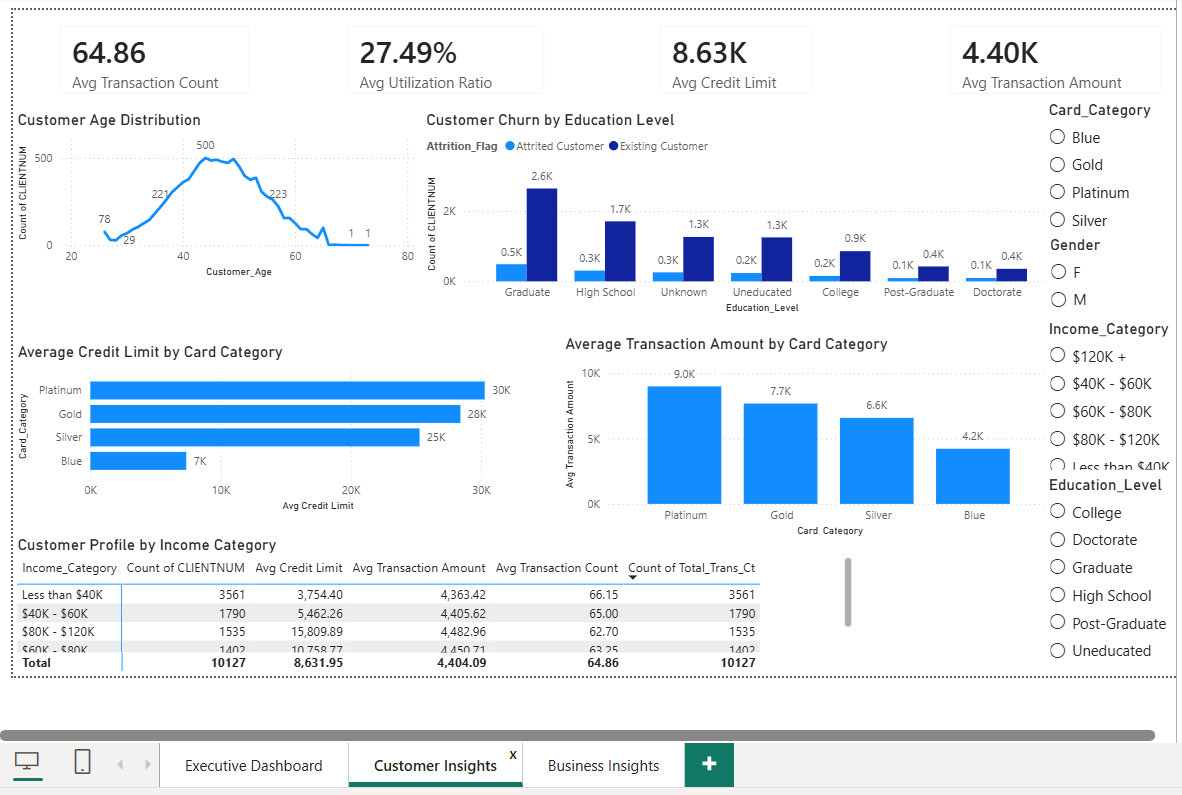

Layout of this report page (visuals, bound fields, positions):
{"tool":"powerbi","page":{"name":"Customer Insights ","canvas":[1280,720],"ordinal":1},"visuals":[{"type":"cardVisual","fields":{"Data":["credit_card_churn bankchurners.Avg Utilization Ratio"]},"box":[344.3,0,247.2,108.7],"z":0},{"type":"cardVisual","fields":{"Data":["credit_card_churn bankchurners.Avg Transaction Count"]},"box":[33.7,0,239.5,108.7],"z":1000},{"type":"cardVisual","fields":{"Data":["credit_card_churn bankchurners.Avg Transaction Amount"]},"box":[995.5,0,262.8,108.7],"z":2000},{"type":"cardVisual","fields":{"Data":["credit_card_churn bankchurners.Avg Credit Limit"]},"box":[682.2,0,199.4,108.7],"z":3000},{"type":"lineChart","title":"Customer Age Distribution","fields":{"Category":["credit_card_churn bankchurners.Customer_Age"],"Y":["CountNonNull(credit_card_churn bankchurners.CLIENTNUM)"]},"box":[0,108.7,441.4,186.4],"z":4000},{"type":"clusteredColumnChart","title":"Customer Churn by Education Level","fields":{"Category":["credit_card_churn bankchurners.Education_Level"],"Y":["CountNonNull(credit_card_churn bankchurners.CLIENTNUM)"],"Series":["credit_card_churn bankchurners.Attrition_Flag"]},"box":[441.4,108.7,695.1,225.2],"z":5000},{"type":"clusteredBarChart","title":"Average Credit Limit by Card Category","fields":{"Category":["credit_card_churn bankchurners.Card_Category"],"Y":["credit_card_churn bankchurners.Avg Credit Limit"]},"box":[0,359.9,591.6,187.7],"z":6000},{"type":"clusteredColumnChart","title":"Average Transaction Amount by Card Category","fields":{"Category":["credit_card_churn bankchurners.Card_Category"],"Y":["credit_card_churn bankchurners.Avg Transaction Amount"]},"box":[591.6,349.5,535.9,223.9],"z":7000},{"type":"pivotTable","title":"Customer Profile by Income Category","fields":{"Rows":["credit_card_churn bankchurners.Income_Category"],"Values":["CountNonNull(credit_card_churn bankchurners.CLIENTNUM)","credit_card_churn bankchurners.Avg Credit Limit","credit_card_churn bankchurners.Avg Transaction Amount","credit_card_churn bankchurners.Avg Transaction Count","CountNonNull(credit_card_churn bankchurners.Total_Trans_Ct)"]},"box":[0,567.5,912.5,152.5],"z":8000},{"type":"listSlicer","fields":{"Values":["credit_card_churn bankchurners.Card_Category"]},"box":[1114.9,97.3,164.4,150.2],"z":9000},{"type":"listSlicer","fields":{"Values":["credit_card_churn bankchurners.Gender"]},"box":[1116.2,243.2,137.2,90.6],"z":10000},{"type":"listSlicer","fields":{"Values":["credit_card_churn bankchurners.Income_Category"]},"box":[1114.9,333.8,164.4,168.3],"z":11000},{"type":"listSlicer","fields":{"Values":["credit_card_churn bankchurners.Education_Level"]},"box":[1114.9,502.7,164.4,203.2],"z":12000}]}

Visuals, with their boxes on the page's 1280x720 design canvas (x1, y1, x2, y2). These are canvas units, not pixel positions in the 1182x795 screenshot, which may show the page scaled, cropped or inside an application window:
cardVisual - credit_card_churn bankchurners.Avg Utilization Ratio: <box>344,0,592,109</box>
cardVisual - credit_card_churn bankchurners.Avg Transaction Count: <box>34,0,273,109</box>
cardVisual - credit_card_churn bankchurners.Avg Transaction Amount: <box>996,0,1258,109</box>
cardVisual - credit_card_churn bankchurners.Avg Credit Limit: <box>682,0,882,109</box>
"Customer Age Distribution" lineChart: <box>0,109,441,295</box>
"Customer Churn by Education Level" clusteredColumnChart: <box>441,109,1136,334</box>
"Average Credit Limit by Card Category" clusteredBarChart: <box>0,360,592,548</box>
"Average Transaction Amount by Card Category" clusteredColumnChart: <box>592,350,1128,573</box>
"Customer Profile by Income Category" pivotTable: <box>0,568,912,720</box>
listSlicer - credit_card_churn bankchurners.Card_Category: <box>1115,97,1279,248</box>
listSlicer - credit_card_churn bankchurners.Gender: <box>1116,243,1253,334</box>
listSlicer - credit_card_churn bankchurners.Income_Category: <box>1115,334,1279,502</box>
listSlicer - credit_card_churn bankchurners.Education_Level: <box>1115,503,1279,706</box>
